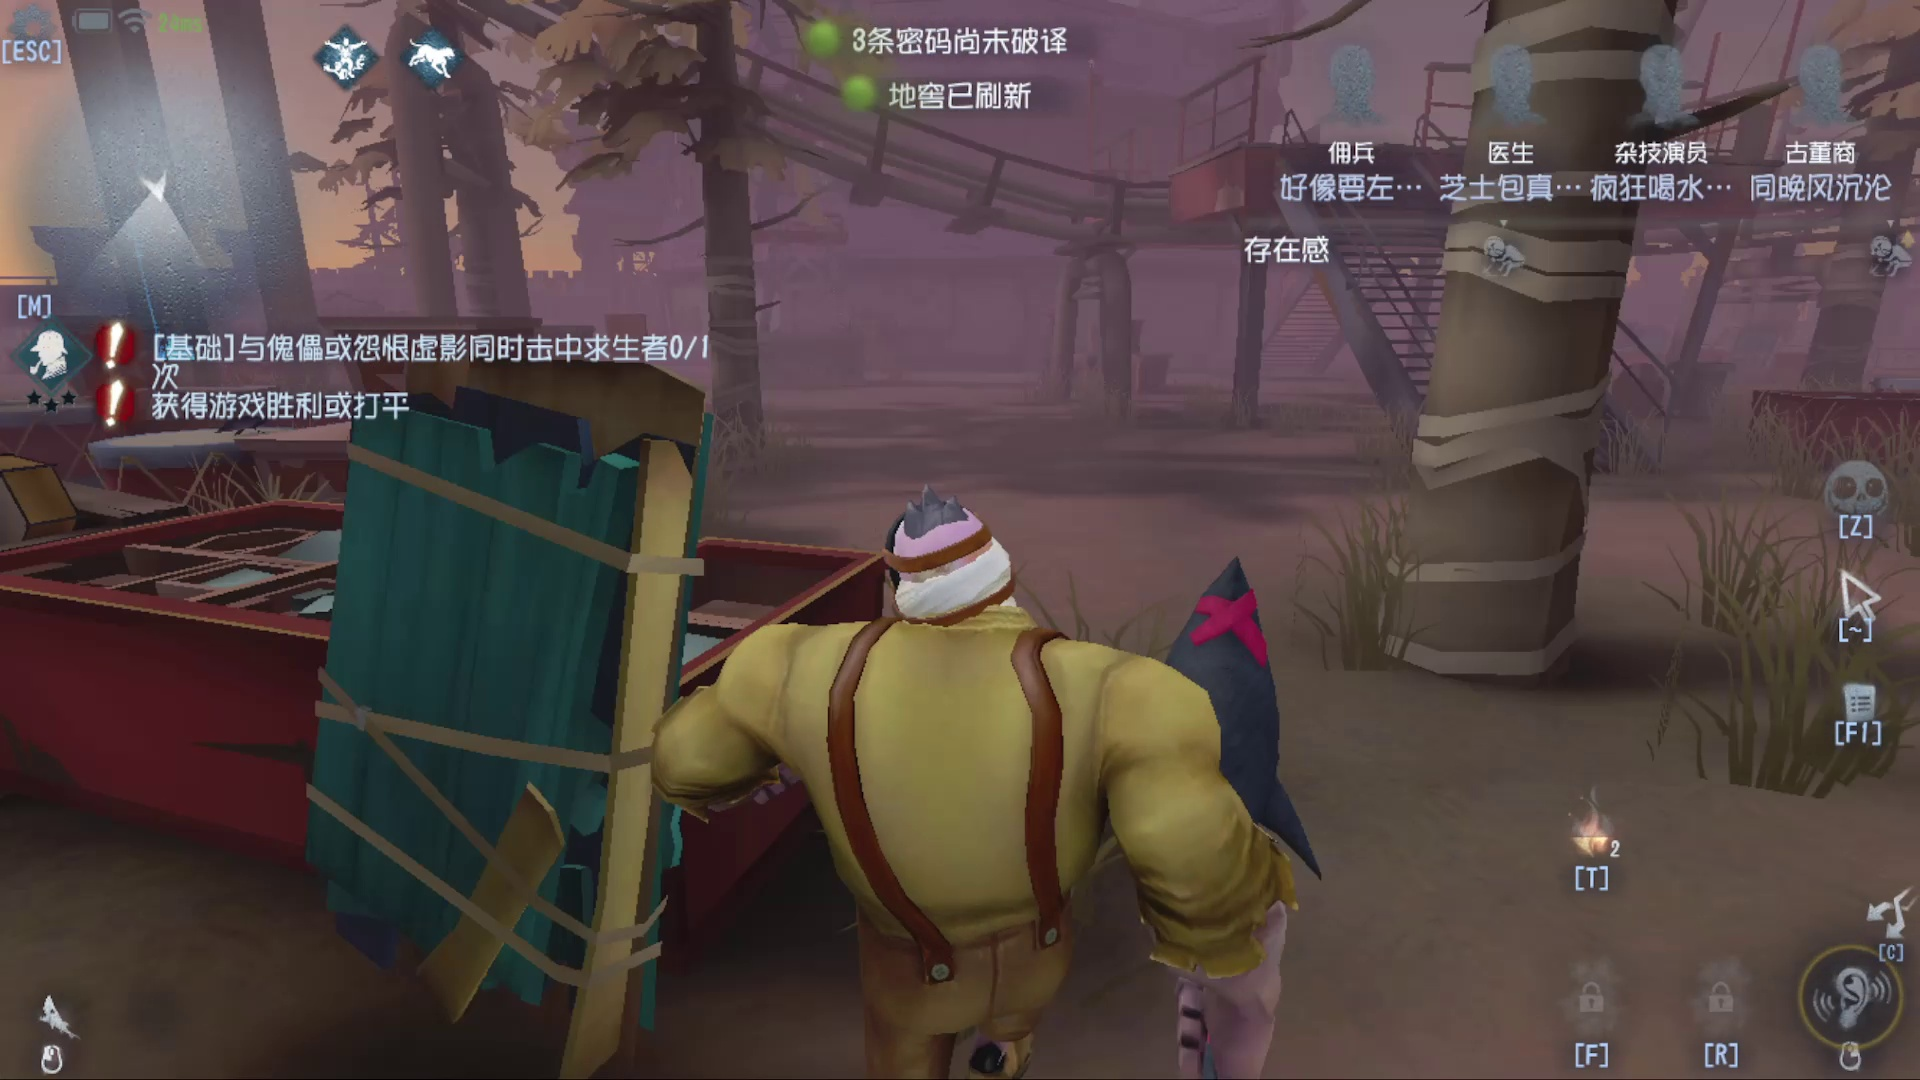木板: (311, 309, 684, 1055)
